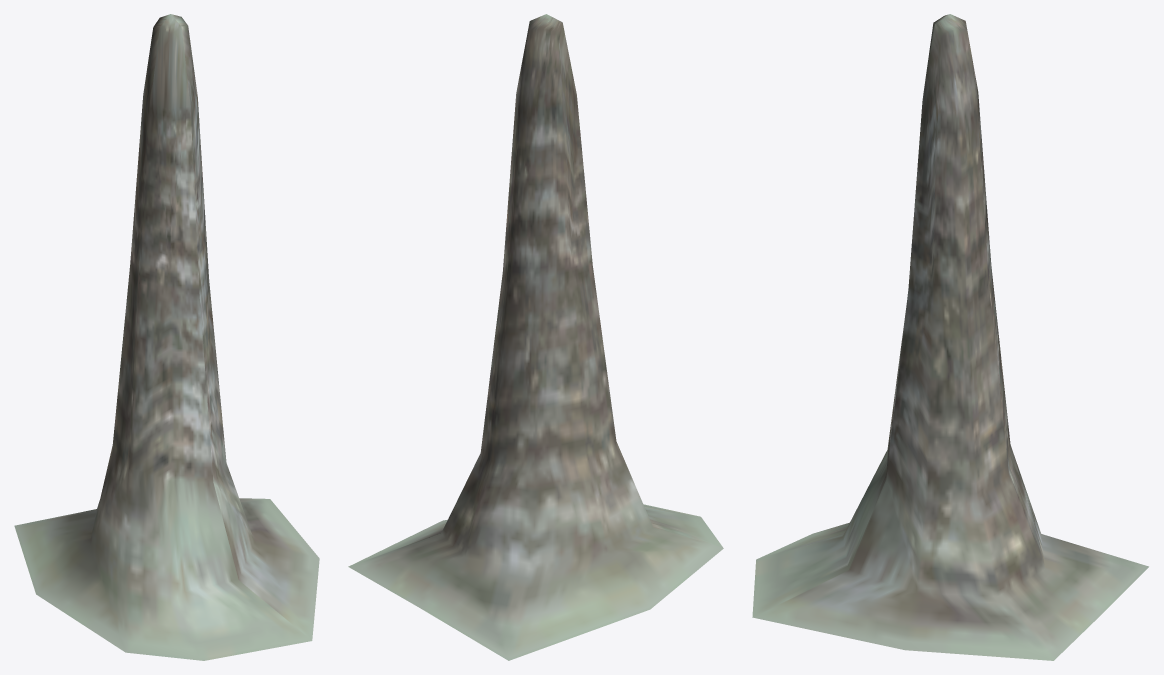
Rendered from TROLLHOLE02_PS-MAINSTALAG52.fbx.
The picture shows the model from 3 angles, left to right: view 1: azimuth 30°, elevation 25°; view 2: azimuth 150°, elevation 25°; view 3: azimuth 270°, elevation 25°; orthographic projection. The views are drawn at different scales.
Visible parts, largest first — view 1: TROLLHOLE02_PS-MAINSTALAG52; view 2: TROLLHOLE02_PS-MAINSTALAG52; view 3: TROLLHOLE02_PS-MAINSTALAG52.
Boxes of the visible parts, box(x1,y1,x2,y2) form: TROLLHOLE02_PS-MAINSTALAG52: box(14, 14, 319, 660); TROLLHOLE02_PS-MAINSTALAG52: box(348, 14, 723, 660); TROLLHOLE02_PS-MAINSTALAG52: box(752, 14, 1148, 660).
Size of the model in its own units: 20976 by 42231 by 26102.
Materials: 1 (1 with a texture image).
